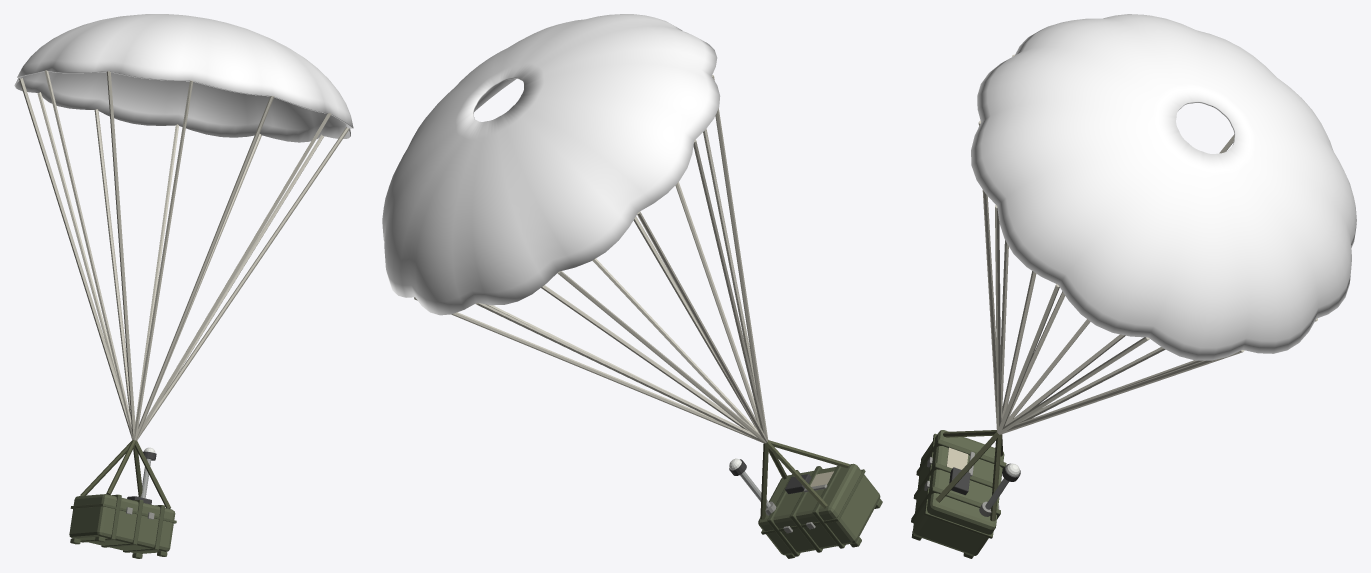
The model's file is beacon.glb.
The picture shows the model from 3 angles, left to right: view 1: azimuth 30°, elevation 25°; view 2: azimuth 150°, elevation 25°; view 3: azimuth 270°, elevation 25°; orthographic projection. The views are drawn at different scales.
Parts seen in each view (by area): view 1: Canopy, HangBody, Line7, Line5, Line9, Line11, Line6, Line8, Line10, Line3, Line4, Line2 (+2 smaller); view 2: Canopy, HangBody, Line7, Line2, Line3, Line6, Line4, Line5, Line9, Line0, Line8, Line11 (+1 smaller); view 3: Canopy, HangBody, Line1, Line10, Line9, Line0, Line11, Line7, Line3, Line5, Line8, Line4 (+1 smaller).
Boxes of the visible parts, box(x1,y1,x2,y2) form: Canopy: box(14, 14, 353, 142); HangBody: box(69, 494, 175, 553); Line7: box(107, 71, 135, 439); Line5: box(19, 78, 132, 439); Line9: box(135, 96, 274, 440); Line11: box(137, 127, 349, 440); Line6: box(44, 70, 133, 439); Line8: box(134, 80, 193, 440); Line10: box(136, 113, 331, 440); Line3: box(94, 109, 130, 417); Line4: box(37, 92, 119, 386); Line2: box(135, 124, 178, 423); Canopy: box(382, 14, 720, 315); HangBody: box(758, 463, 880, 555); Line7: box(712, 75, 768, 440); Line2: box(414, 297, 763, 443); Line3: box(475, 302, 765, 443); Line6: box(693, 139, 767, 441); Line4: box(557, 271, 766, 442); Line5: box(637, 211, 767, 442); Line9: box(675, 182, 760, 426); Line0: box(541, 285, 749, 431); Line8: box(703, 129, 756, 390); Line11: box(592, 258, 757, 431); Canopy: box(971, 14, 1356, 360); HangBody: box(913, 430, 1004, 555); Line1: box(1000, 350, 1244, 434); Line10: box(995, 205, 1001, 432); Line9: box(978, 120, 997, 431); Line0: box(999, 337, 1149, 434); Line11: box(998, 284, 1059, 433); Line7: box(1002, 271, 1036, 418); Line3: box(1019, 347, 1165, 422); Line5: box(1004, 134, 1234, 426); Line8: box(1000, 54, 1014, 419); Line4: box(1006, 334, 1125, 425).
Size of the model in its own units: 4.78 by 6.58 by 4.64.
